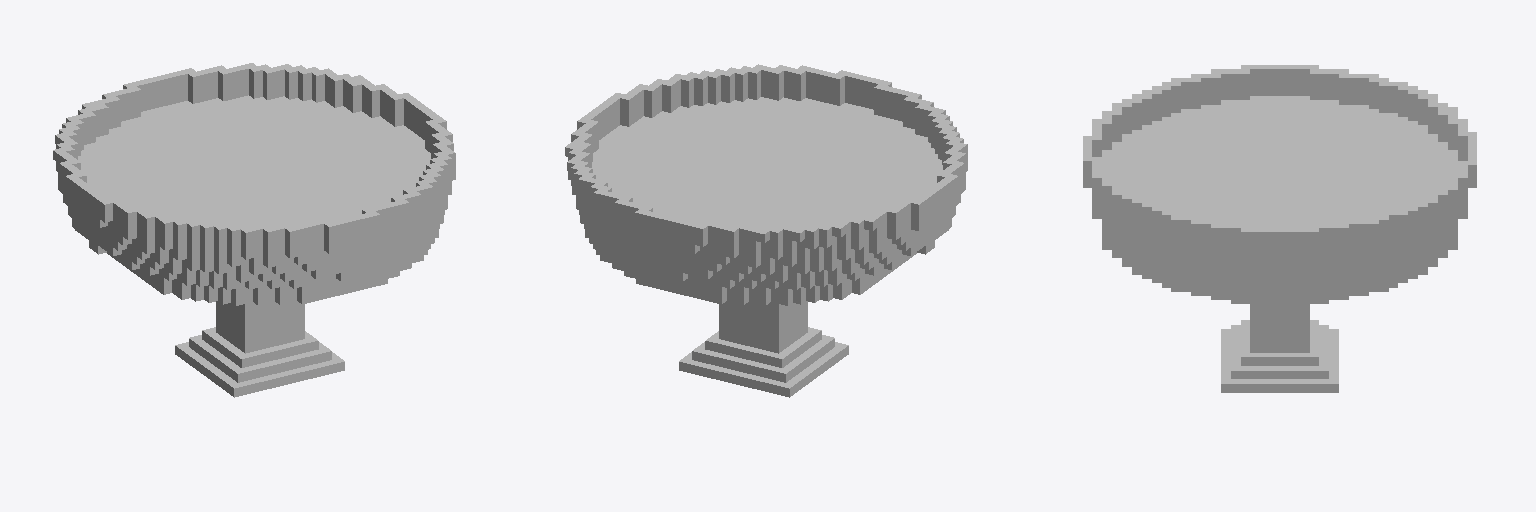
Rendered from fountain.obj.
The picture shows the model from 3 angles: view 1: azimuth 30°, elevation 25°; view 2: azimuth 150°, elevation 25°; view 3: azimuth 270°, elevation 25°; orthographic projection.
Parts seen in each view (by area): view 1: object 1; view 2: object 1; view 3: object 1.
Boxes of the visible parts, box(x1,y1,x2,y2) form: object 1: box(53, 63, 455, 397); object 1: box(565, 64, 967, 397); object 1: box(1083, 65, 1476, 392).
Size of the model in its own units: 4 by 2.4 by 4.